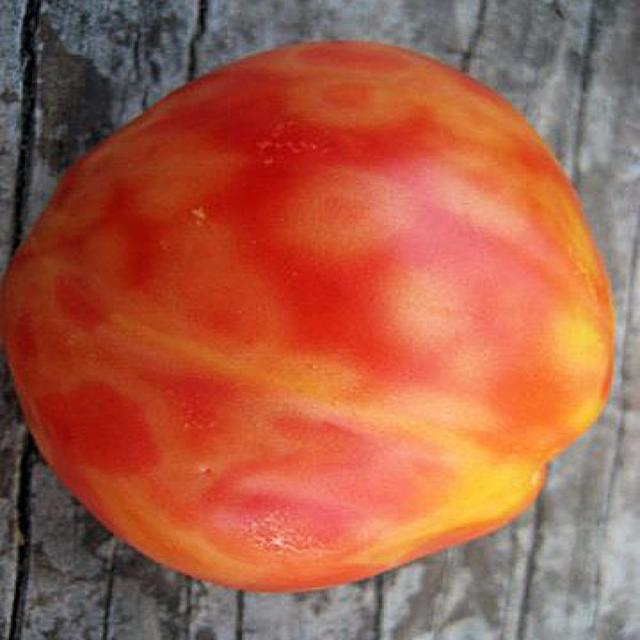Spotted wilt Virus Fruit: (4, 24, 411, 395)
